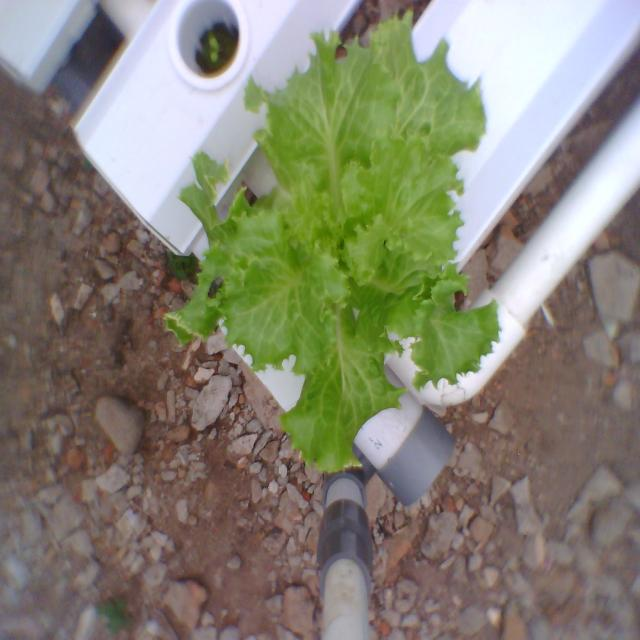FN: (155, 8, 510, 494)
